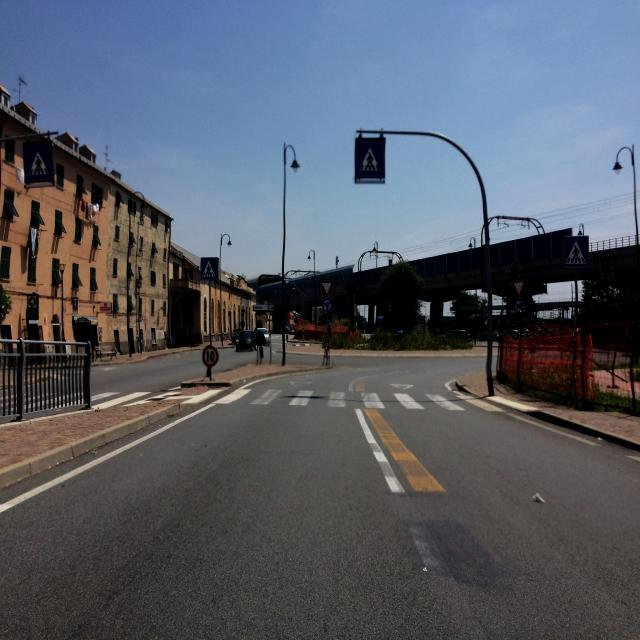car: (235, 329, 255, 352), (451, 328, 468, 338)
